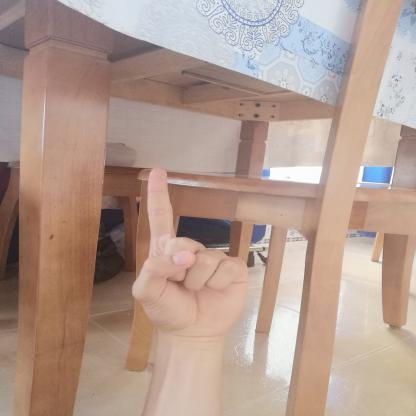BAA: (113, 156, 262, 346)
